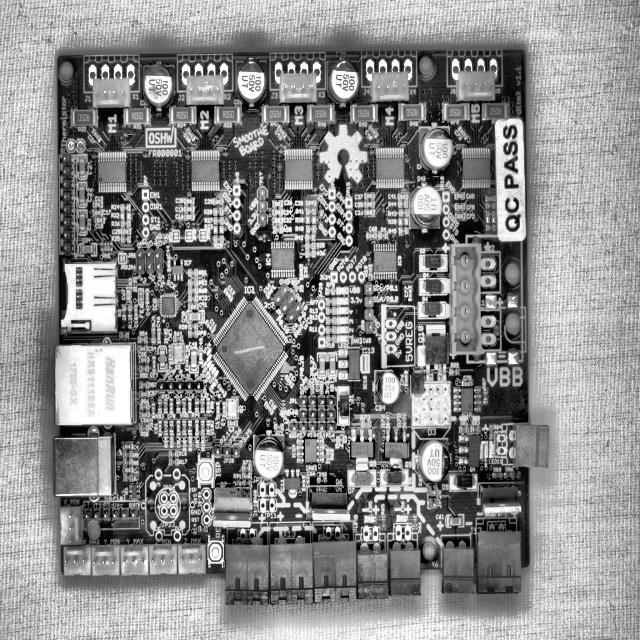PCB: (55, 47, 550, 598)
